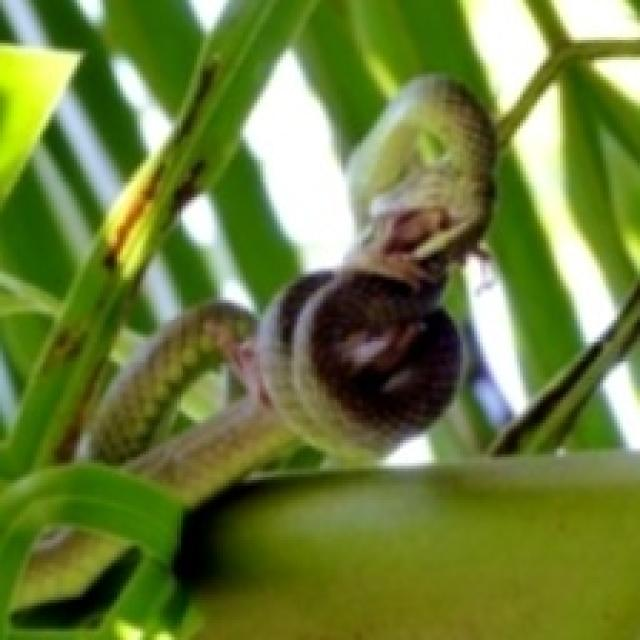paradise tree snake: (90, 81, 498, 507), (12, 530, 130, 609)
